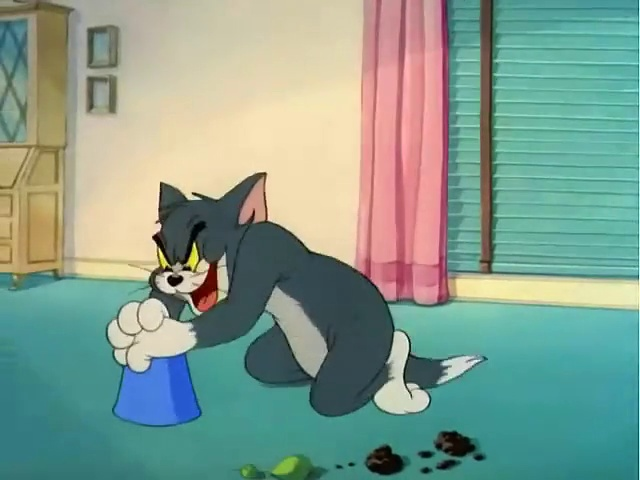tom: (87, 153, 477, 454)
